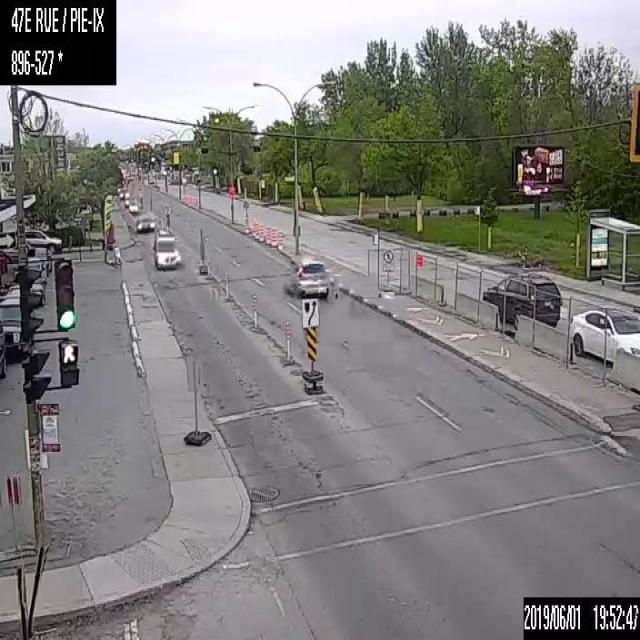construction: (253, 296, 257, 328), (258, 223, 265, 241), (270, 227, 277, 245), (286, 319, 289, 360), (277, 231, 284, 248), (264, 225, 270, 243), (252, 221, 258, 238), (225, 276, 228, 297)
vehicle: (480, 270, 561, 334), (566, 302, 639, 369), (0, 295, 34, 360), (282, 252, 328, 299), (24, 225, 62, 255), (152, 229, 181, 268), (3, 282, 46, 306), (24, 246, 52, 276), (136, 213, 155, 231), (0, 323, 6, 375), (127, 199, 139, 213), (14, 244, 17, 249)
